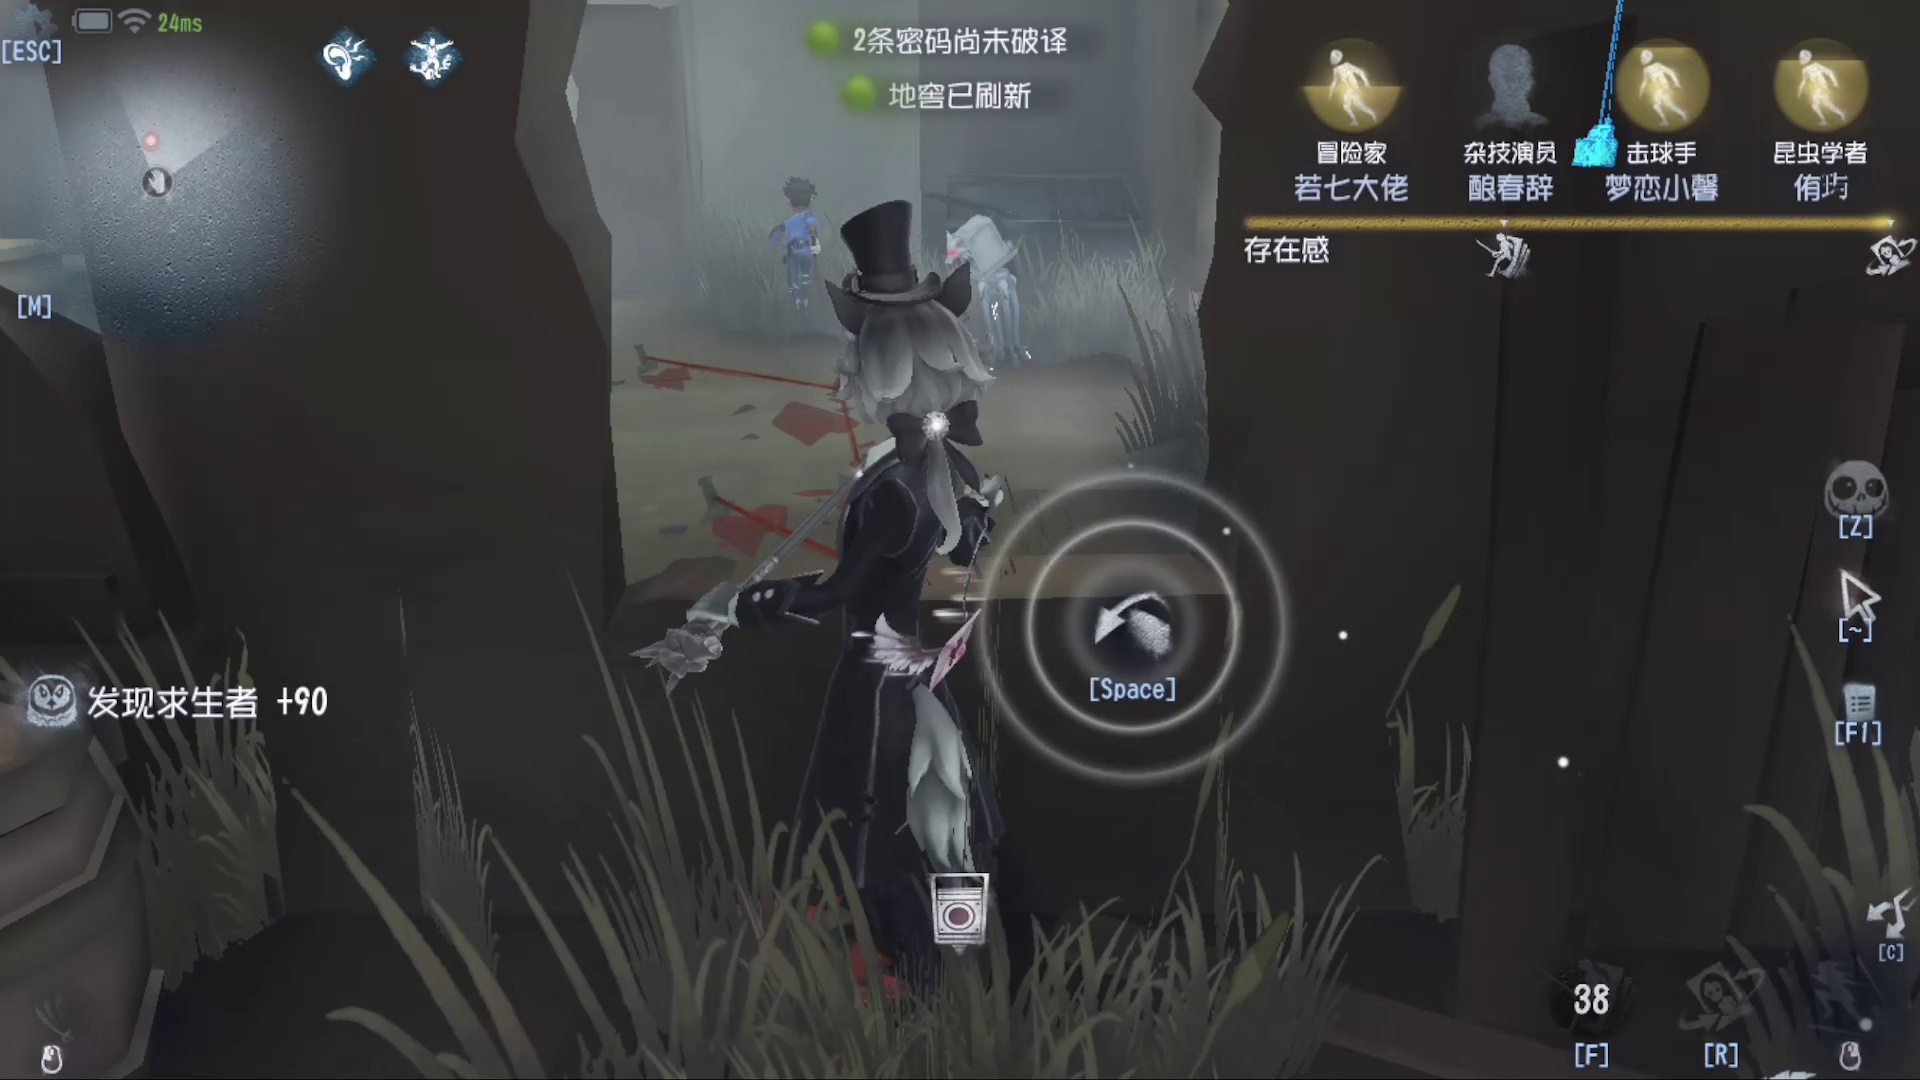求生者: (760, 161, 822, 297)
